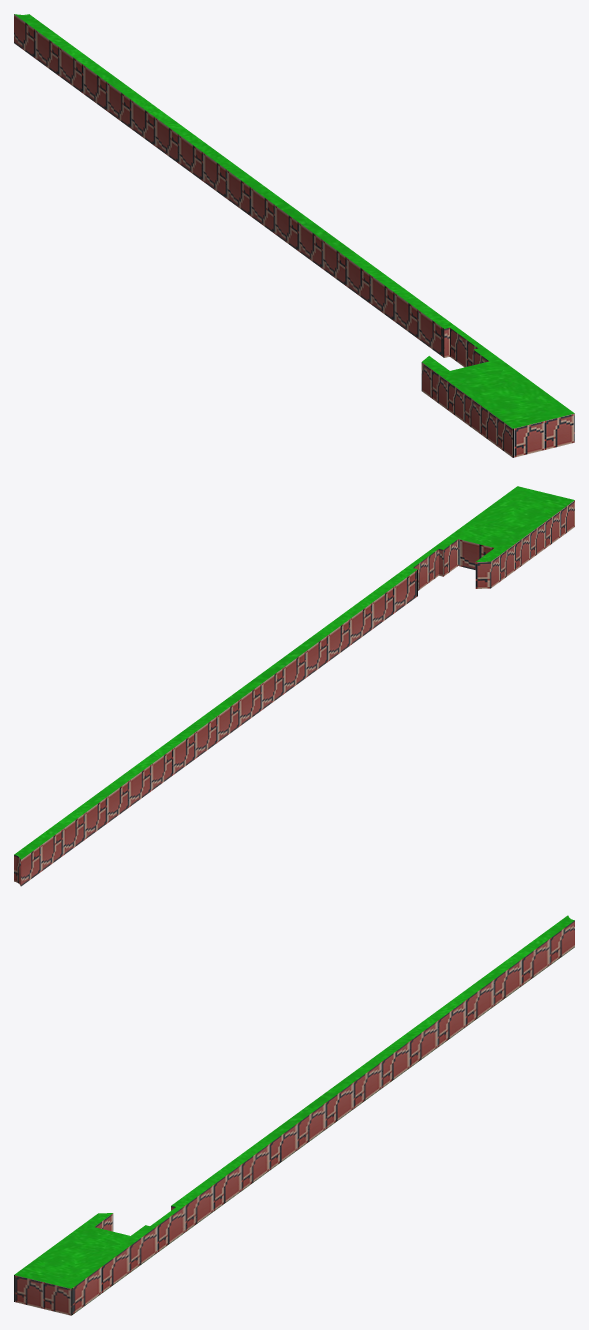
File: StartRamp.FBX
3 renders of one model, top to bottom at view 1: azimuth 30°, elevation 25°; view 2: azimuth 150°, elevation 25°; view 3: azimuth 330°, elevation 25°, orthographic. The views are drawn at different scales.
Parts seen in each view (by area): view 1: Line008; view 2: Line008; view 3: Line008.
Part boxes in pixels (box(x1,y1,x2,y2)): Line008: box(14, 14, 574, 457); Line008: box(14, 486, 574, 886); Line008: box(14, 915, 574, 1315).
Size of the model in its own units: 2.2 by 0.9843 by 33.62.
